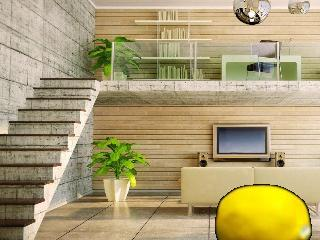lemon: (215, 185, 310, 240)
